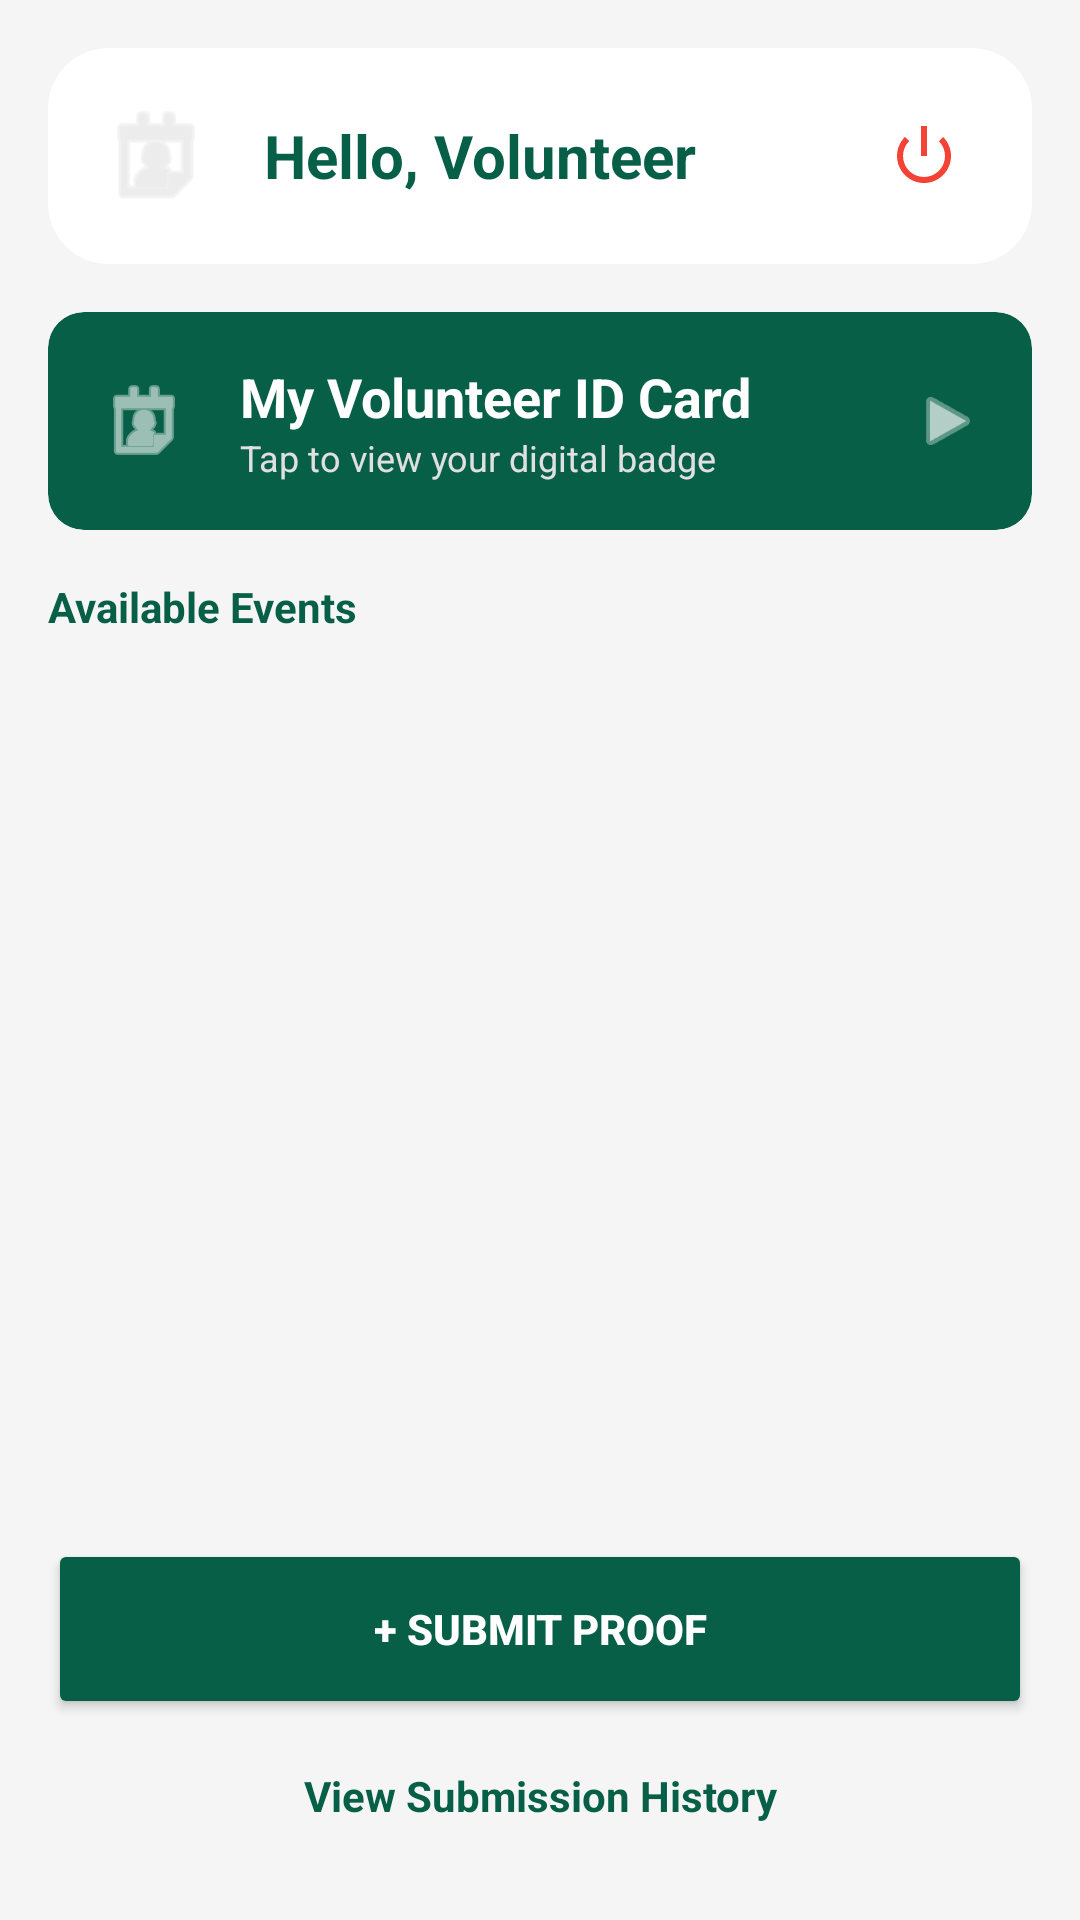

Icons on this 1080px×1920px Android screen, each with the point to tap as (x,y):
calendar: (144,420)
lock power off: (924,154)
play: (948,421)
